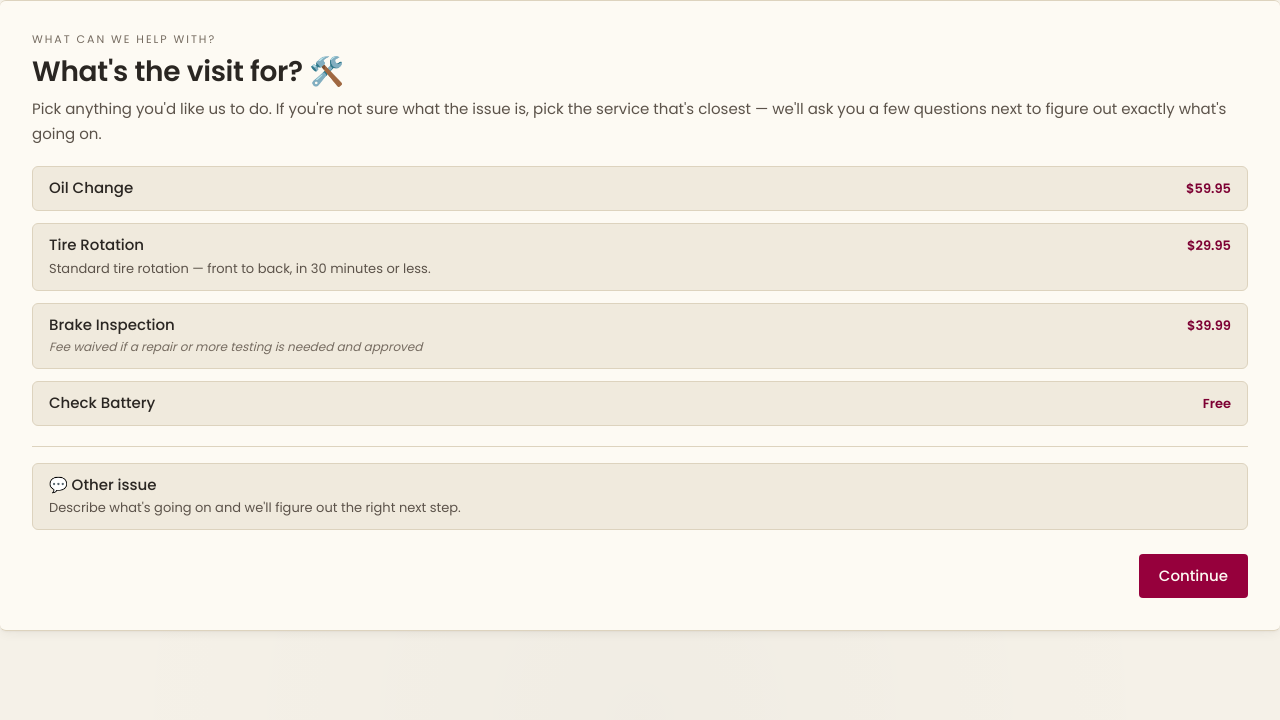
Test: <ServiceAndConcernPicker /> › blocks submit + shows alert when no chips are picked
Step 1. Click the button "Continue" → point(1193, 576), box [1139,554,1248,598]
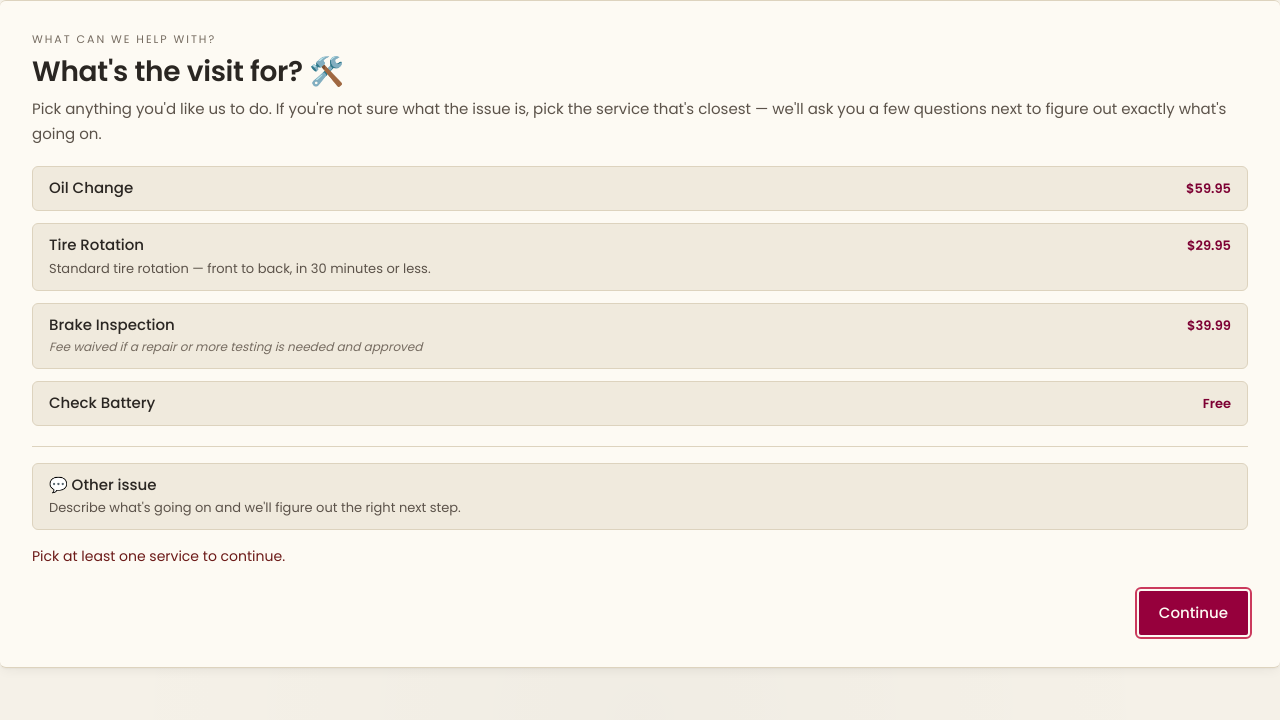
Expected: the message shows "Pick at least one service", [32,546,285,566]
